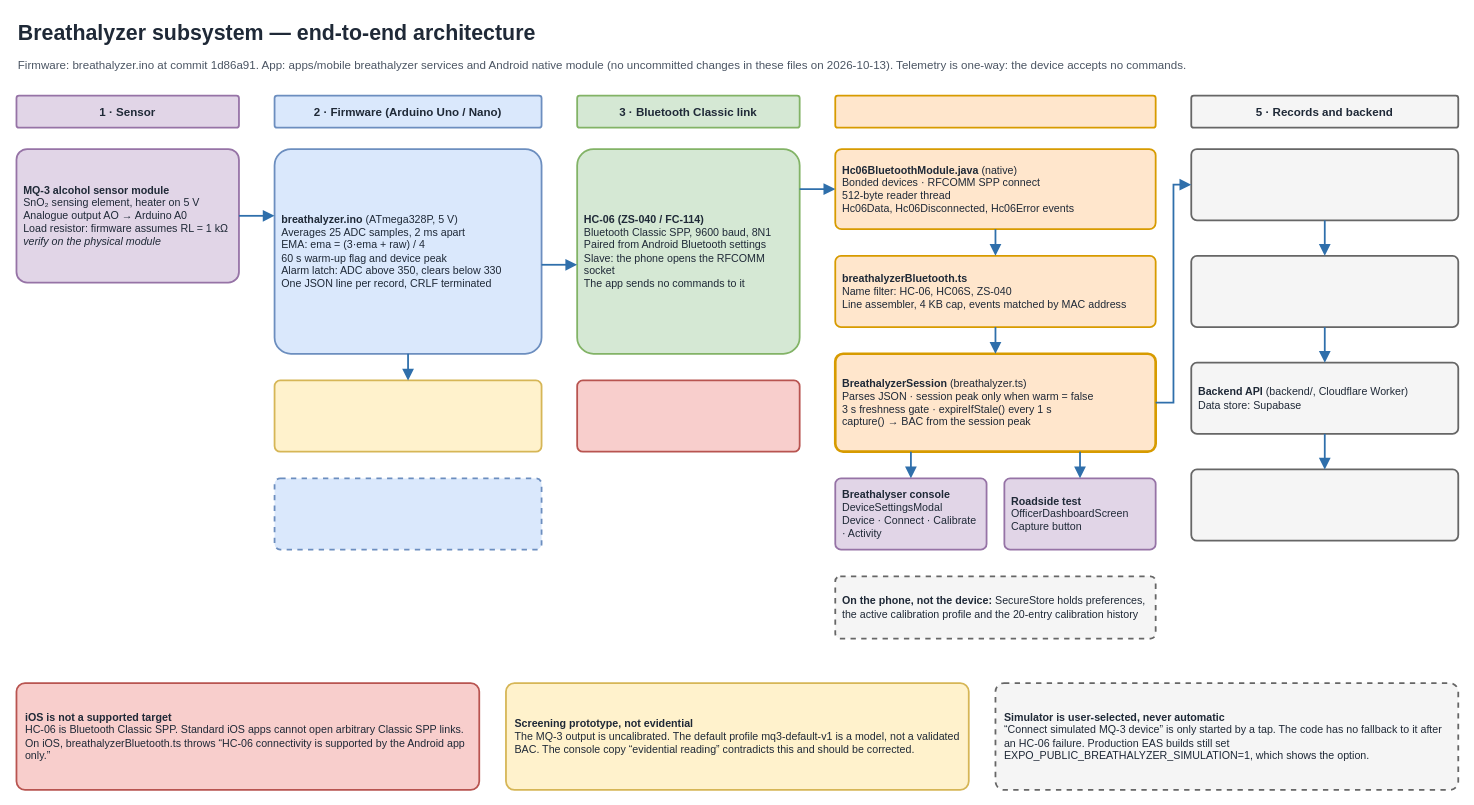
This 1474x805 diagram has some shape labels left out. Each missing label, with the centre of its shape:
"4 · Android app (apps/mobile)" goes at point (995, 111).
"Level shift D4 → 1 kΩ → RXD and RXD → 2 kΩ → GND 5 V becomes ≈3.3 V" goes at point (688, 415).
"Local SQLite queue Test record and device evidence pending_sync until uploaded" goes at point (1324, 184).
"Passive buzzer on D8 tone(2700 Hz) only when warm and latched" goes at point (407, 415).
"Supervisor web app (apps/web) Shows serial, calibration version and peak" goes at point (1324, 504).
"Sync uploader (sync.ts) Batches, retries, evidence uploads" goes at point (1324, 291).
"USB serial on D0 / D1 Flashing and bench copy of the same stream" goes at point (407, 513).
